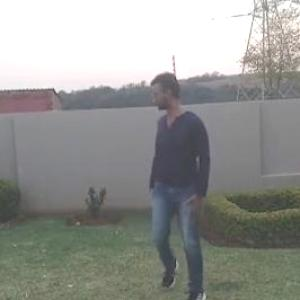follow: (147, 66, 216, 299)
